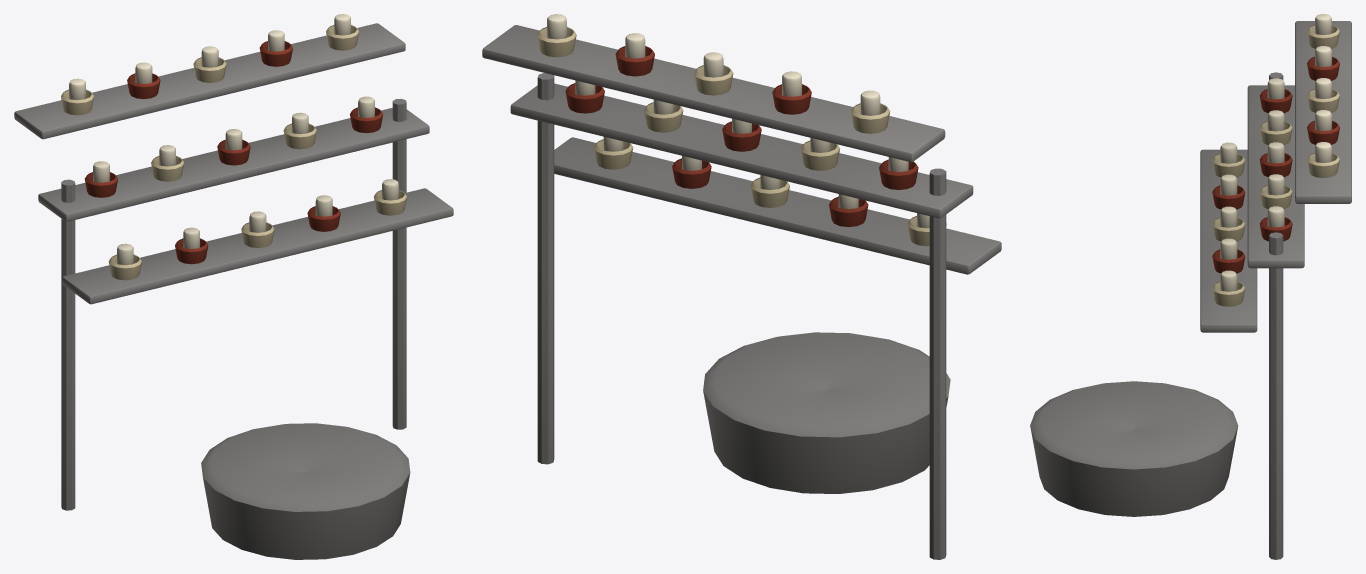
The model's file is obj_kit_votive.glb.
The picture shows the model from 3 angles, left to right: view 1: azimuth 30°, elevation 25°; view 2: azimuth 150°, elevation 25°; view 3: azimuth 270°, elevation 25°; orthographic projection. The views are drawn at different scales.
Parts seen in each view (by area): view 1: sand, Cube.002, Cube, Cube.001, leg, leg.001, cup.012, cup, cup.002, cup.007, cup.011, cup.003 (+9 smaller); view 2: sand, Cube.002, Cube.001, Cube, leg, leg.001, cup.013, cup.012, cup.010, cup.011, cup.004, cup.005 (+8 smaller); view 3: sand, Cube.002, Cube, Cube.001, leg.001, cup.004, cup.014, cup.005, cup.006, cup.007, cup.008, cup (+8 smaller).
Part boxes in pixels (x1=…): sand: x1=201, y1=423, x2=410, y2=559; Cube.002: x1=14, y1=23, x2=405, y2=139; Cube: x1=62, y1=188, x2=453, y2=304; Cube.001: x1=38, y1=108, x2=429, y2=221; leg: x1=61, y1=179, x2=75, y2=510; leg.001: x1=392, y1=98, x2=406, y2=429; cup.012: x1=193, y1=57, x2=226, y2=82; cup: x1=108, y1=254, x2=141, y2=280; cup.002: x1=241, y1=222, x2=274, y2=247; cup.007: x1=217, y1=139, x2=250, y2=165; cup.011: x1=127, y1=73, x2=160, y2=99; cup.003: x1=307, y1=206, x2=340, y2=231; sand: x1=703, y1=332, x2=950, y2=493; Cube.002: x1=482, y1=25, x2=945, y2=162; Cube.001: x1=510, y1=83, x2=973, y2=218; Cube: x1=554, y1=137, x2=1001, y2=274; leg: x1=929, y1=168, x2=946, y2=559; leg.001: x1=537, y1=73, x2=554, y2=464; cup.013: x1=615, y1=46, x2=654, y2=76; cup.012: x1=694, y1=65, x2=733, y2=95; cup.010: x1=850, y1=103, x2=890, y2=133; cup.011: x1=772, y1=84, x2=811, y2=114; cup.004: x1=593, y1=139, x2=633, y2=169; cup.005: x1=879, y1=159, x2=918, y2=189; sand: x1=1030, y1=381, x2=1238, y2=516; Cube.002: x1=1295, y1=21, x2=1351, y2=203; Cube: x1=1200, y1=149, x2=1257, y2=332; Cube.001: x1=1247, y1=85, x2=1304, y2=268; leg.001: x1=1269, y1=232, x2=1283, y2=559; cup.004: x1=1212, y1=281, x2=1245, y2=306; cup.014: x1=1307, y1=152, x2=1339, y2=177; cup.005: x1=1259, y1=89, x2=1292, y2=113; cup.006: x1=1259, y1=121, x2=1292, y2=145; cup.007: x1=1259, y1=153, x2=1292, y2=177; cup.008: x1=1259, y1=185, x2=1292, y2=209; cup: x1=1212, y1=153, x2=1245, y2=177.
Size of the model in its own units: 0.88 by 0.925 by 0.68.
